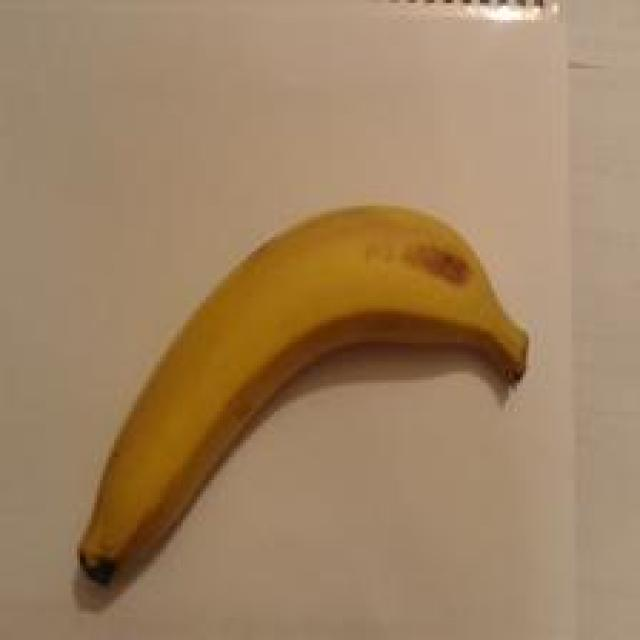banana: (43, 174, 555, 612)
